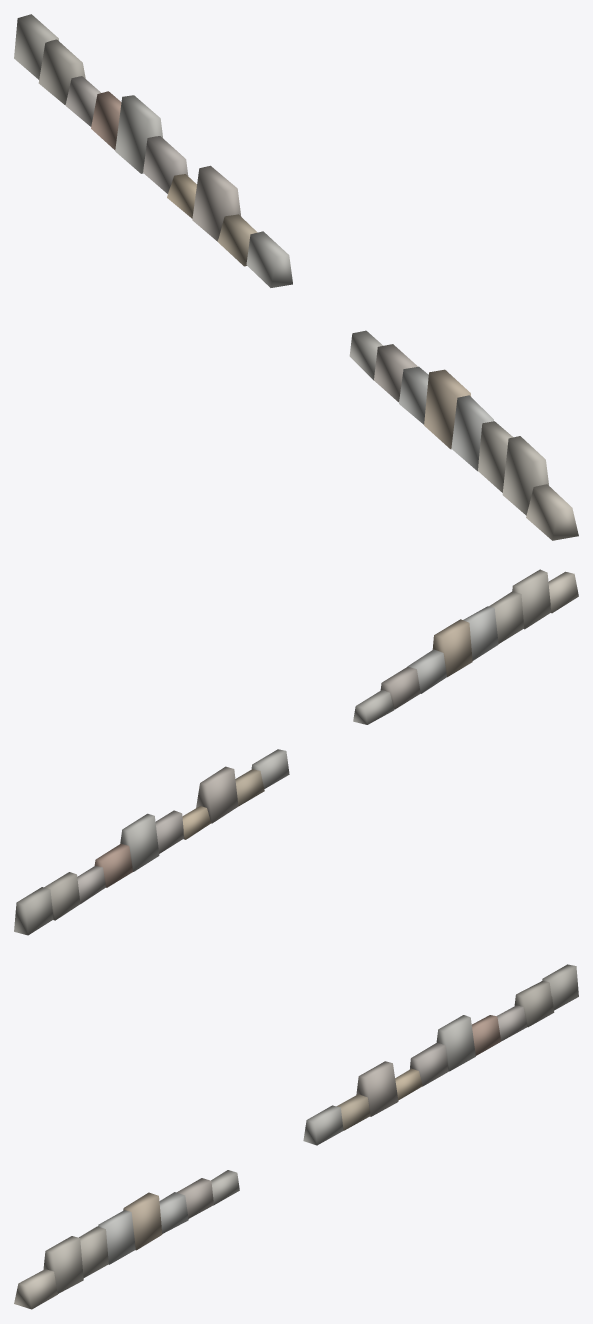
File: farm_4_14_far.glb
The picture shows the model from 3 angles, top to bottom: view 1: azimuth 30°, elevation 25°; view 2: azimuth 150°, elevation 25°; view 3: azimuth 330°, elevation 25°; orthographic projection. The views are drawn at different scales.
Visible parts, largest first — view 1: geometry_0; view 2: geometry_0; view 3: geometry_0.
Boxes of the visible parts, box(x1,y1,x2,y2) form: geometry_0: box(14, 14, 578, 540); geometry_0: box(14, 569, 578, 935); geometry_0: box(14, 964, 578, 1309).
Size of the model in its own units: 3.8 by 2.04 by 32.82.
